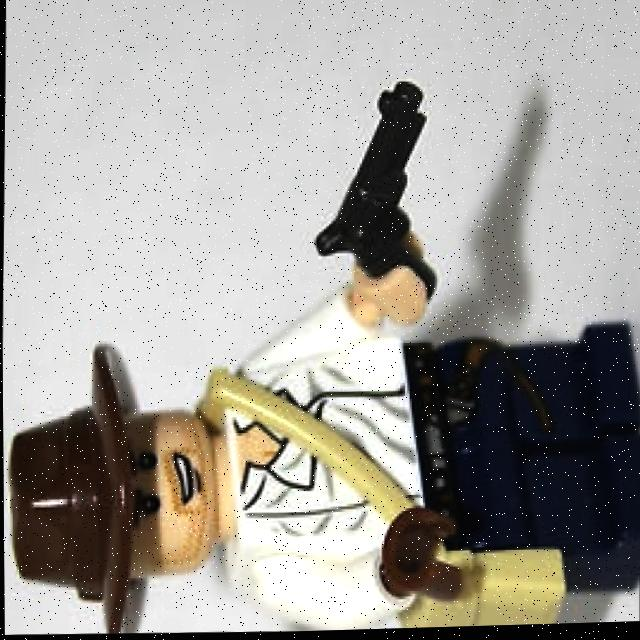pistol: (309, 79, 442, 308)
